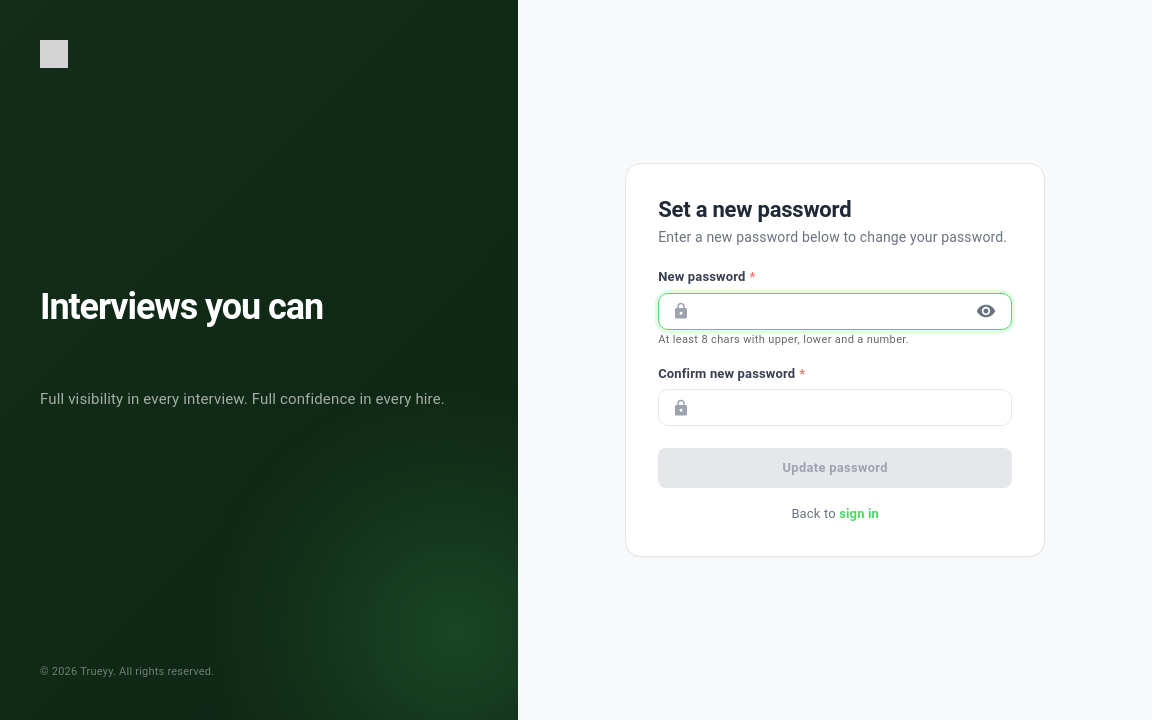
ResetPassword › mismatched confirmation blocks submit
Type "Abcdef12" into the password field labelled "New password *". click: (831, 311)
box: [698, 293, 963, 330]
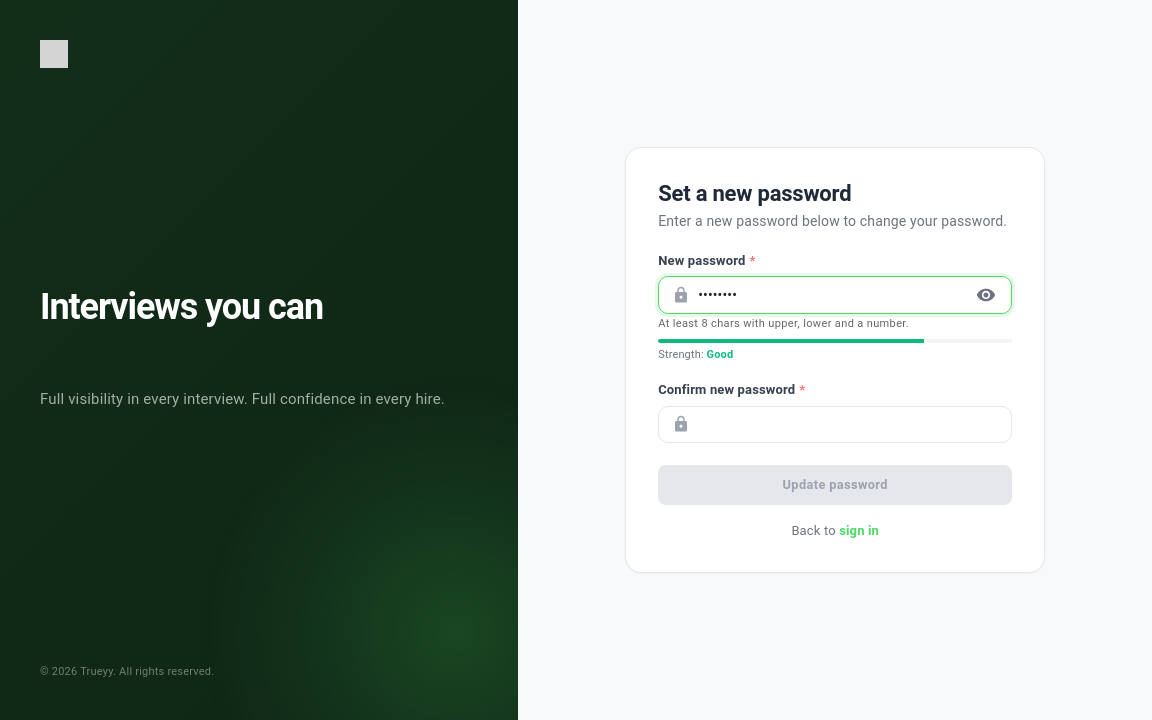
Type "Different1" into the password field labelled "Confirm new password *". click: (855, 424)
box: [698, 406, 1012, 443]
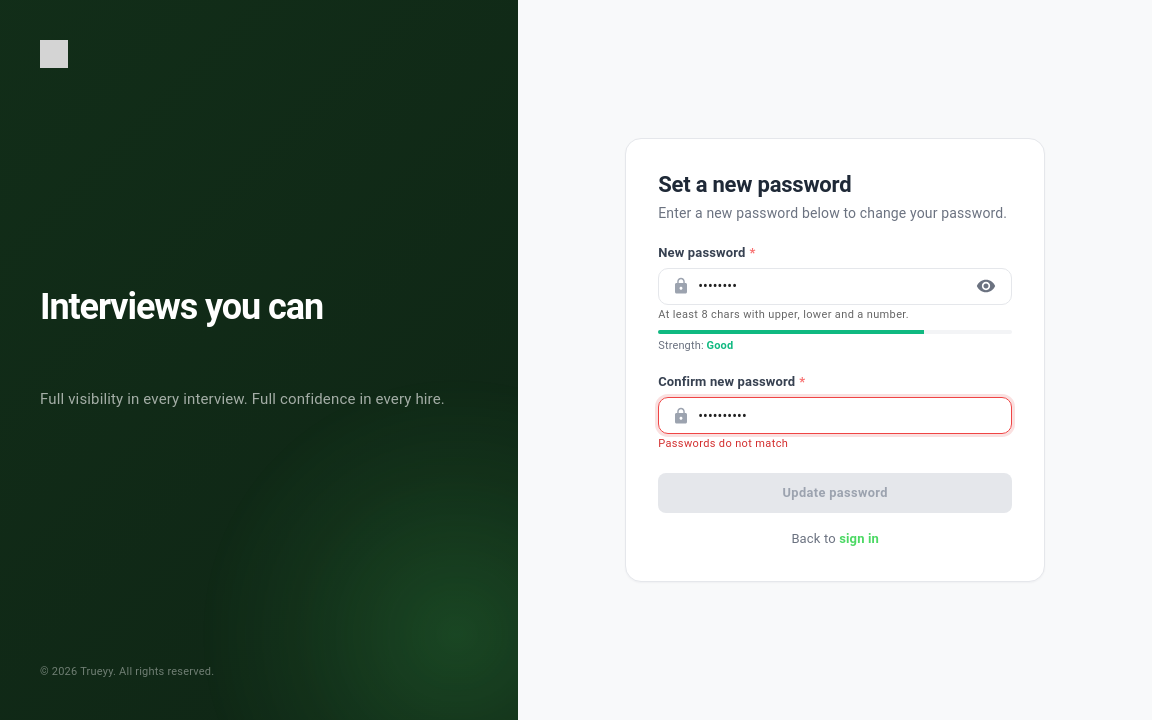
Expected: the button "Update password" is disabled, [658, 473, 1012, 513]
Result: the text "Passwords do not match" is shown at [658, 437, 788, 450]
